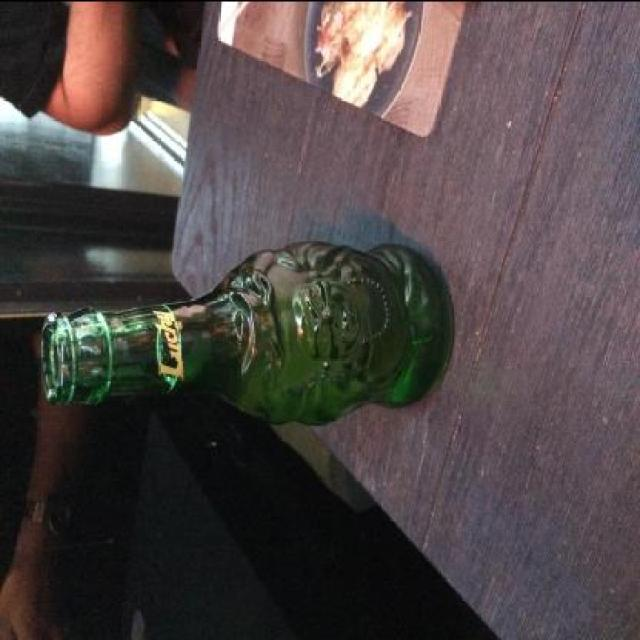glass: (35, 233, 460, 427)
